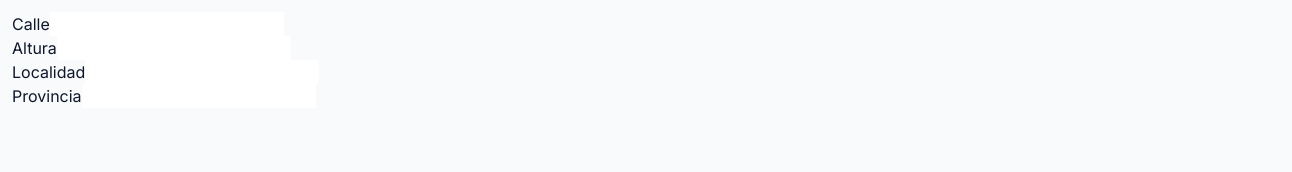
shows a retryable resolution failure in fields without confirming an address
Type "123" into the dropdown labelled "Altura".
click(174, 48); type("123")  # box [57,36,291,60]
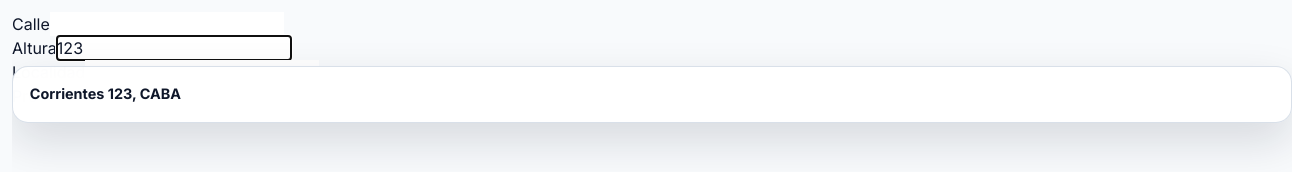
Click the option "Corrientes 123, CABA".
click(105, 94)  # box [30,85,181,102]
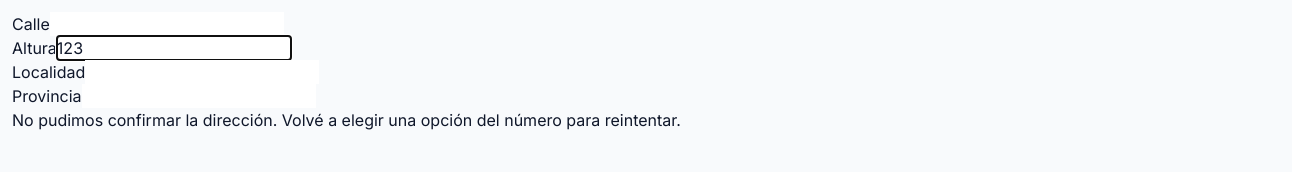
Check: the message shows "No pudimos confirmar la dirección", box [12,110,681,130]
